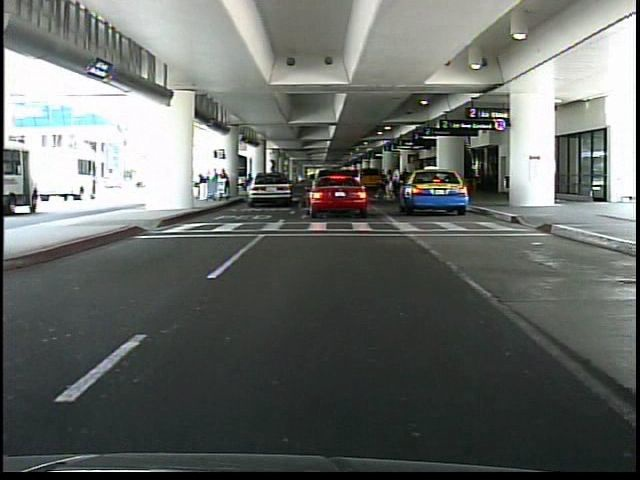person: (268, 165, 282, 204), (393, 167, 405, 201), (401, 166, 411, 203), (375, 173, 385, 201)
